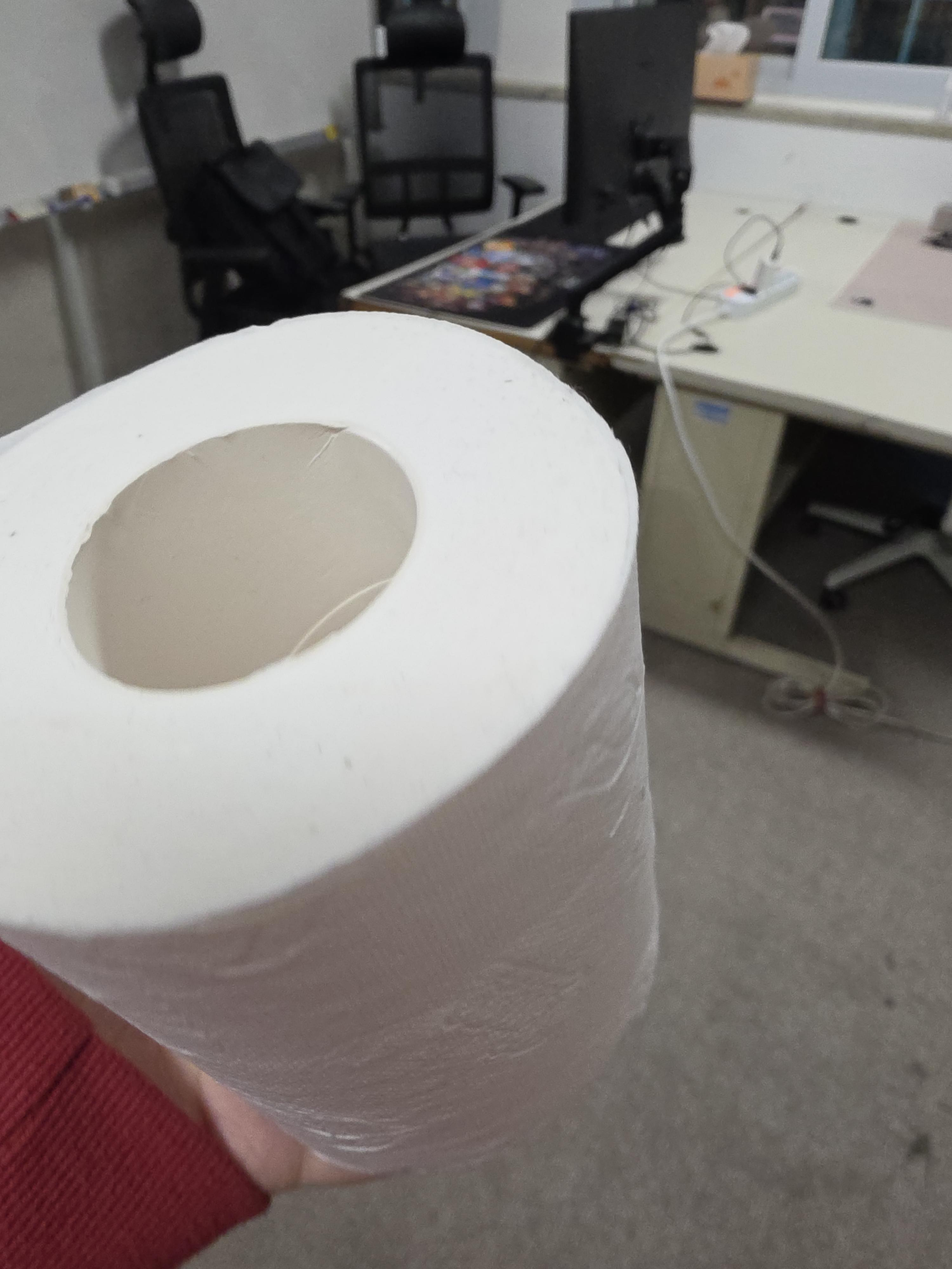tissue: (0, 309, 660, 1180), (693, 20, 757, 104)
